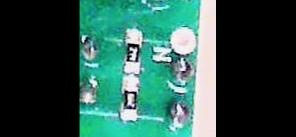chip-resistor: (120, 27, 144, 74), (118, 77, 141, 121)
